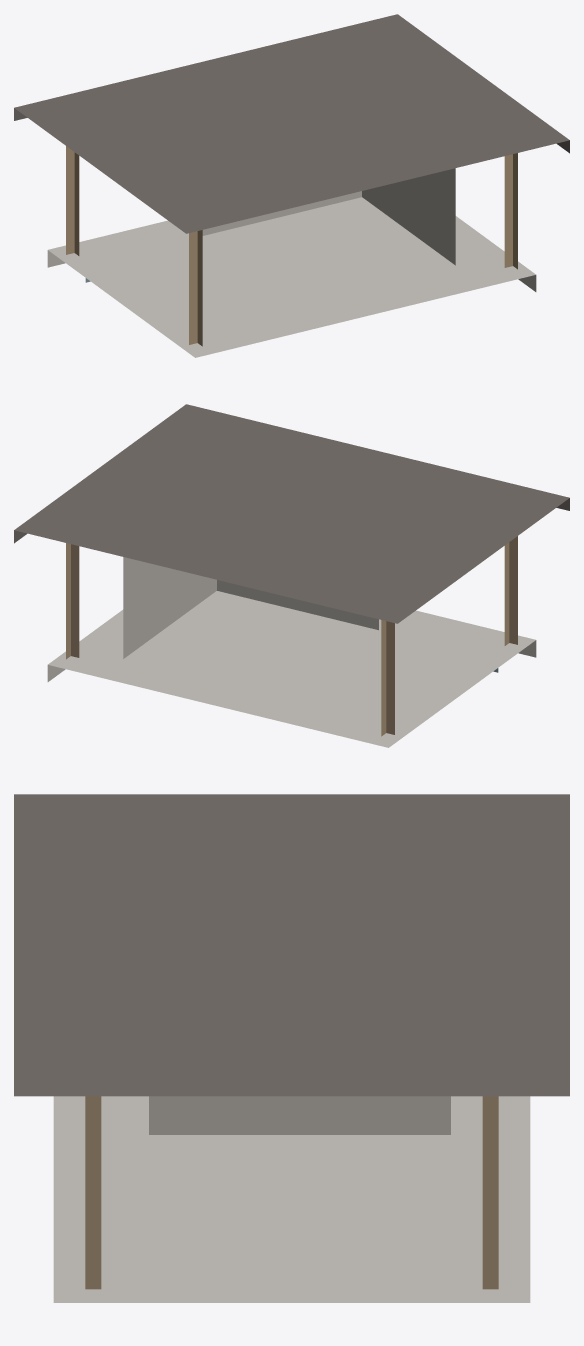
File: villa-model.glb
3 renders of one model, top to bottom at view 1: azimuth 30°, elevation 25°; view 2: azimuth 150°, elevation 25°; view 3: azimuth 270°, elevation 25°, orthographic. The views are drawn at different scales.
Visible parts, largest first — view 1: Pavilion; view 2: Pavilion; view 3: Pavilion.
Part boxes in pixels (x1,y1,x2,y2): Pavilion: (14,14,569,357); Pavilion: (14,404,569,747); Pavilion: (14,794,569,1302).
Bounding box in the file's own units: 9 × 3.5 × 7.
